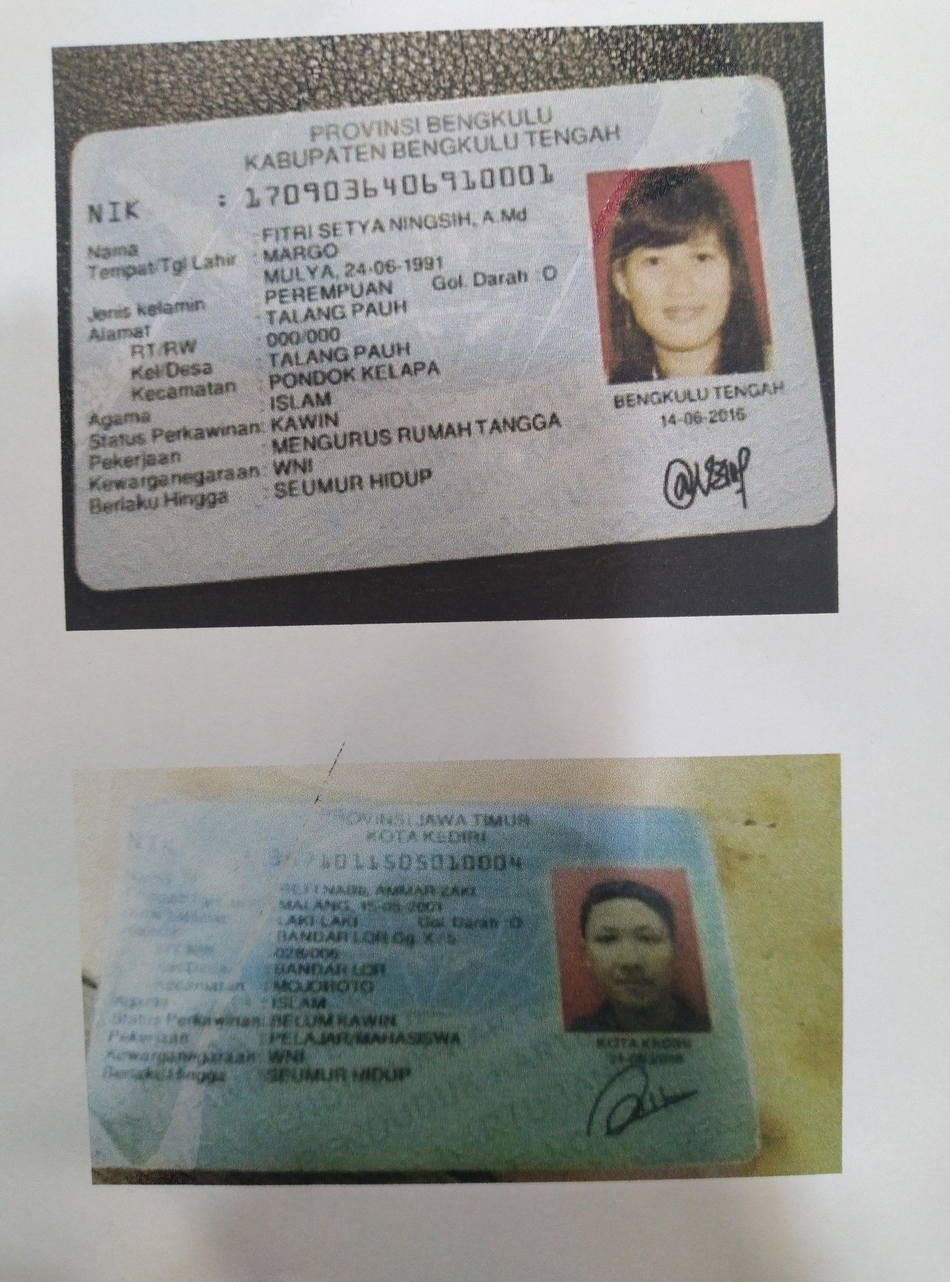ktp: (64, 72, 827, 591), (86, 803, 749, 1154)
